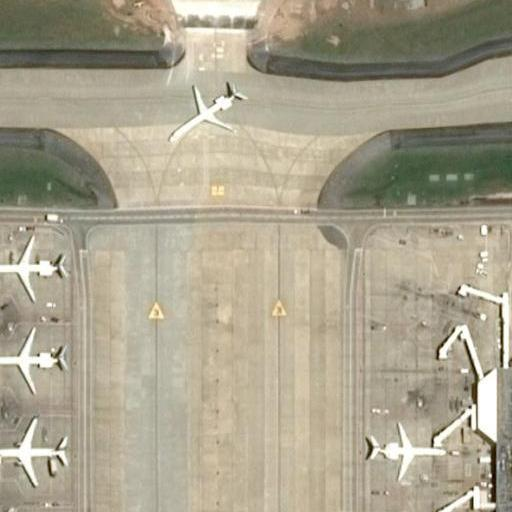Aircraft: (352, 416, 448, 484), (162, 75, 247, 148), (0, 404, 66, 493), (3, 233, 73, 306), (1, 325, 66, 397)
